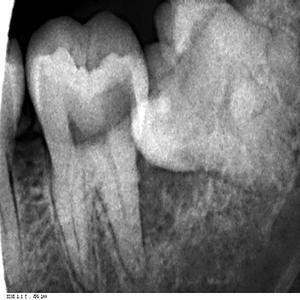tooth: (131, 0, 300, 193), (27, 15, 148, 284)
